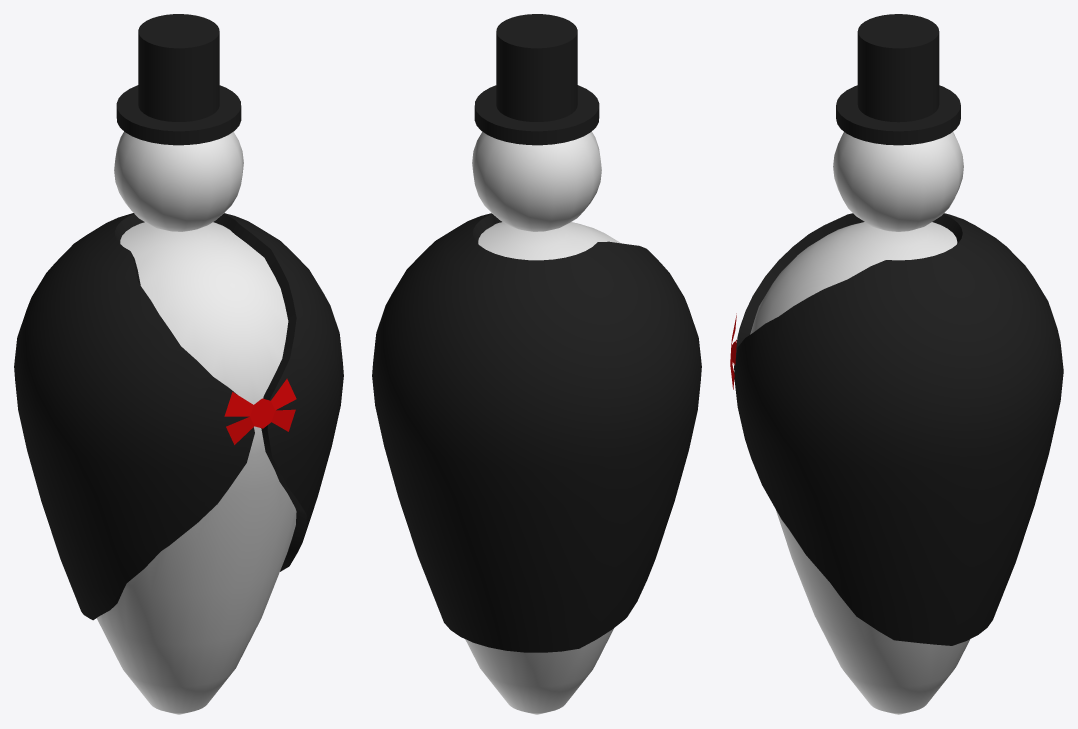
Rendered from TakeYoMoneyMan.fbx.
3 views of the same model, side by side, from view 1: azimuth 30°, elevation 25°; view 2: azimuth 150°, elevation 25°; view 3: azimuth 270°, elevation 25° (orthographic).
Visible parts, largest first — view 1: Sphere, Cylinder, Sphere.001; view 2: Sphere, Cylinder, Sphere.001; view 3: Sphere, Cylinder, Sphere.001.
Boxes of the visible parts, x1,y1,x2,y2 form: Sphere: [14, 213, 343, 714]; Cylinder: [116, 14, 241, 145]; Sphere.001: [114, 131, 243, 231]; Sphere: [372, 213, 701, 714]; Cylinder: [474, 14, 599, 145]; Sphere.001: [472, 131, 601, 231]; Sphere: [730, 213, 1063, 714]; Cylinder: [836, 14, 960, 145]; Sphere.001: [833, 132, 963, 231].
Size of the model in its own units: 215 by 490 by 217.
